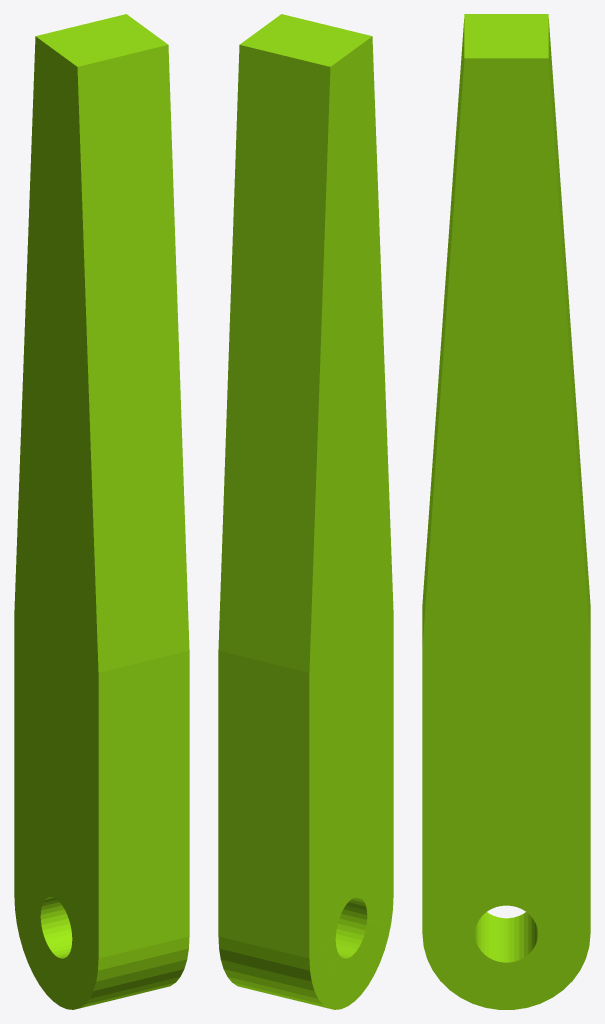
The model's file is barsservo.dae.
3 views of the same model, side by side, from view 1: azimuth 30°, elevation 25°; view 2: azimuth 150°, elevation 25°; view 3: azimuth 270°, elevation 25° (orthographic).
Visible parts, largest first — view 1: brasServo; view 2: brasServo; view 3: brasServo.
Boxes of the visible parts, <box> form: brasServo: <box>14,14,189,1009</box>; brasServo: <box>218,14,393,1009</box>; brasServo: <box>422,14,590,1009</box>.
Size of the model in its own units: 0.005 by 0.008 by 0.05.
